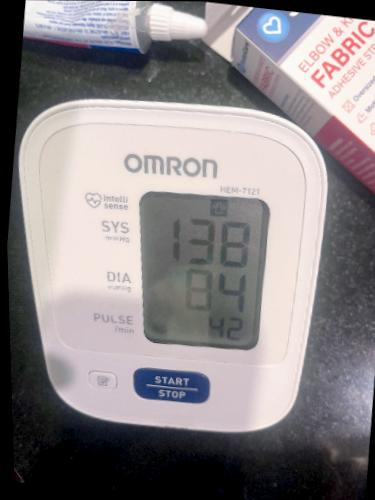bpm: (129, 190, 267, 349)
